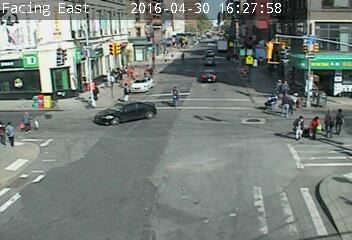neg: (312, 44, 347, 90), (183, 150, 214, 191), (130, 136, 158, 173), (40, 160, 67, 195), (203, 39, 226, 69), (238, 181, 260, 211), (91, 187, 113, 216), (50, 47, 70, 74), (165, 82, 185, 108), (22, 46, 41, 73), (258, 44, 276, 69), (240, 109, 257, 131), (61, 22, 78, 44), (306, 46, 322, 67), (110, 40, 124, 58), (176, 48, 188, 63)
pos: (5, 118, 25, 145), (319, 105, 339, 131), (288, 115, 307, 141), (307, 113, 324, 136), (279, 95, 296, 117), (19, 109, 35, 131), (334, 110, 349, 130), (119, 83, 134, 102)
